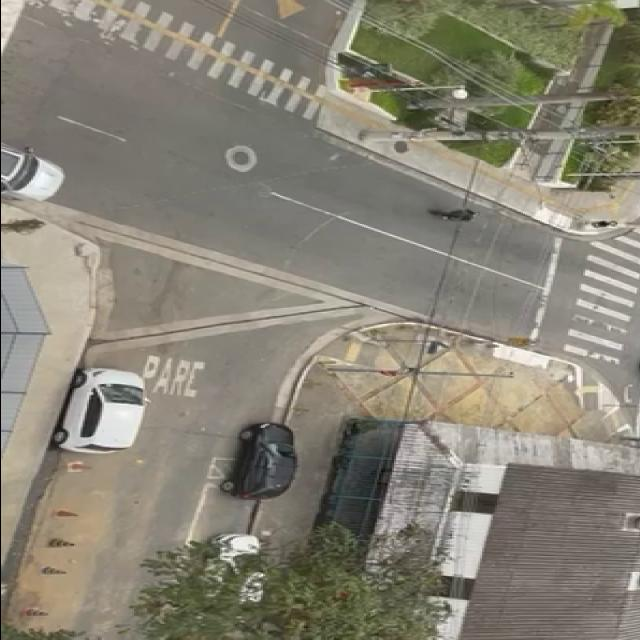car: (44, 365, 150, 459), (218, 414, 300, 506)
motorbike: (419, 200, 484, 231)
